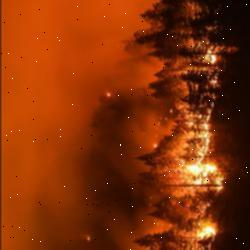fire: (174, 51, 240, 250)
